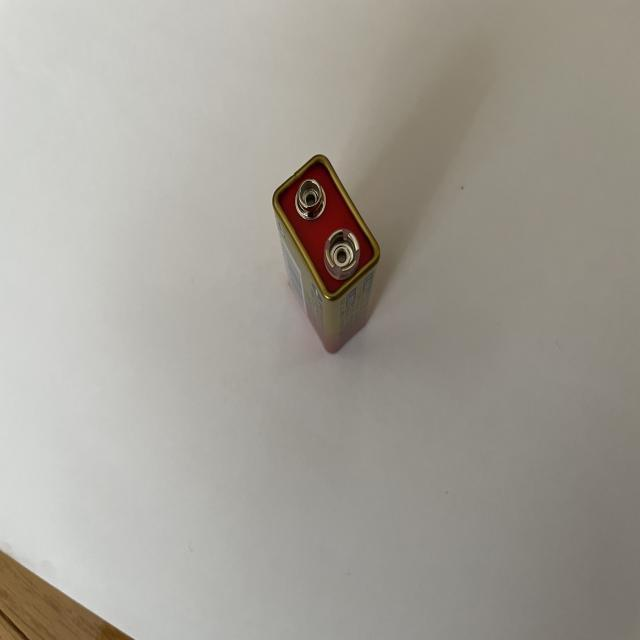9V: (271, 154, 378, 354)
